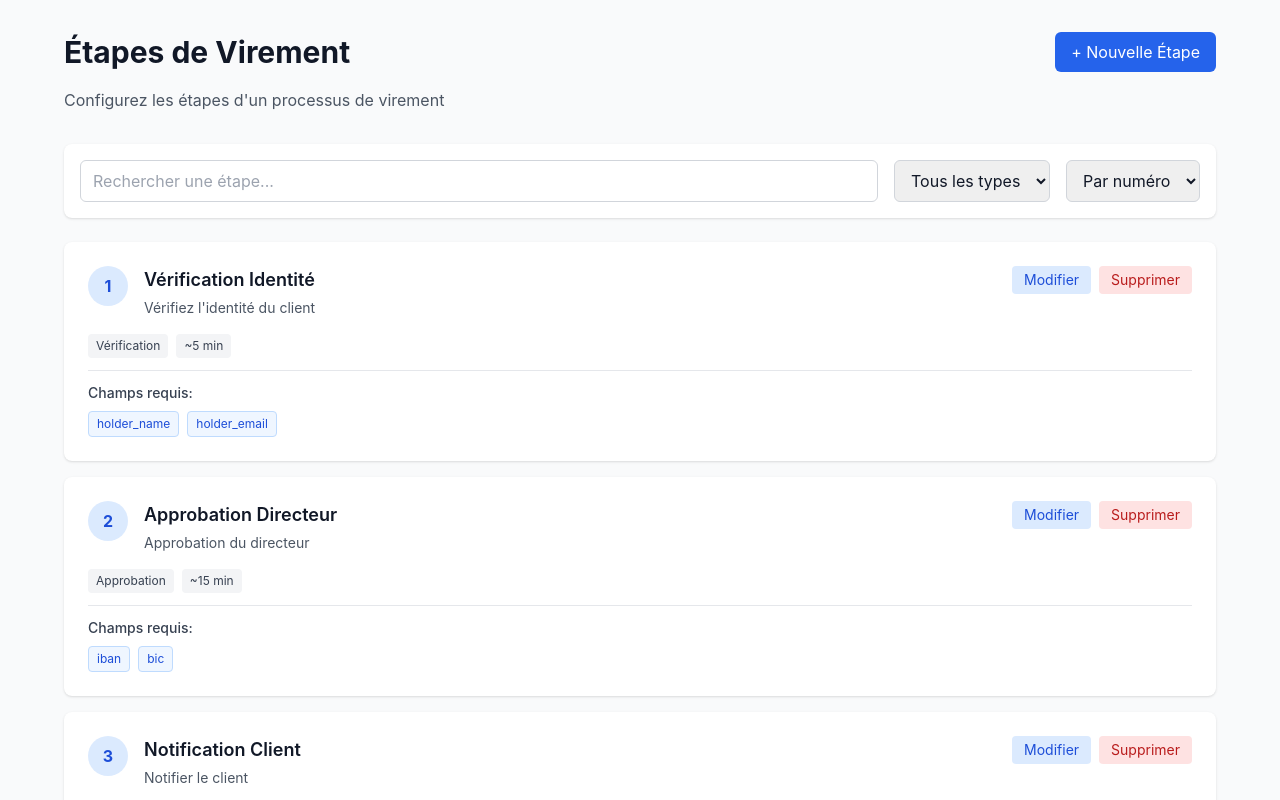
Test: TransferStepPage › Search Functionality › should filter steps by name
Type "Vérification" into the field with placeholder "Rechercher une étape...".
click(479, 181); type("Vérification")  # box [80,160,878,202]
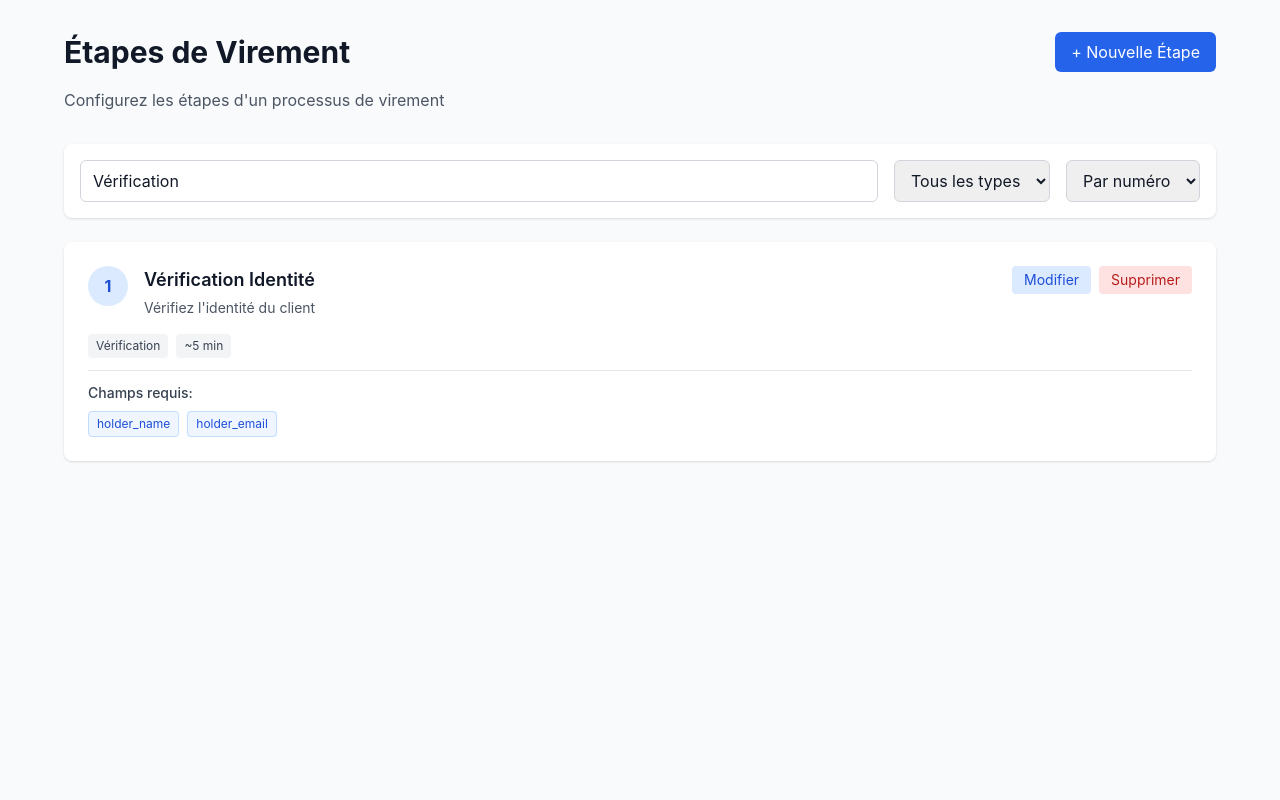
Expected: the heading "Vérification Identité" is shown, [144,266,315,294]
Expected: the heading "Approbation Directeur" is gone
